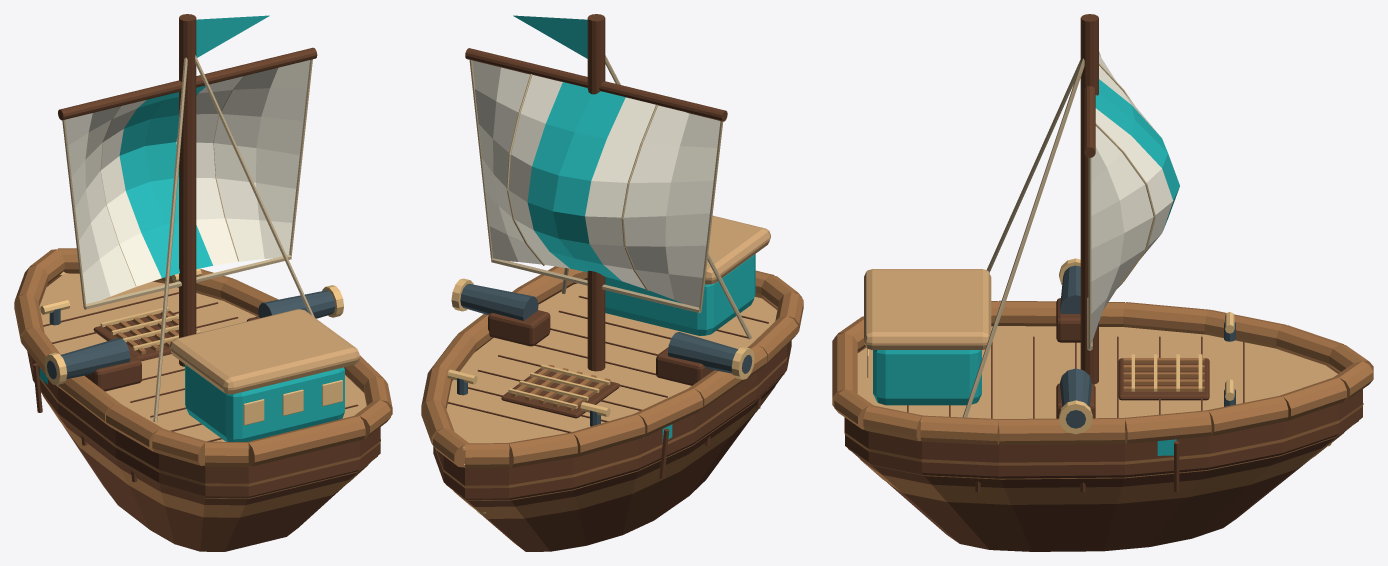
Rendered from ship-stage-1.glb.
3 renders of one model, left to right at view 1: azimuth 30°, elevation 25°; view 2: azimuth 150°, elevation 25°; view 3: azimuth 270°, elevation 25°, orthographic. The views are drawn at different scales.
Visible parts, largest first — view 1: Ship Sail ivory, Ship Walnut, Ship Hull amber, Ship Honey teak, Ship Team teal, Ship Rope flax, Ship Brass, Broadside barrel, Broadside barrel.001, Cannon carriage, Muzzle brass; view 2: Ship Sail ivory, Ship Walnut, Ship Hull amber, Ship Honey teak, Ship Team teal, Ship Rope flax, Ship Brass, Broadside barrel.001, Broadside barrel, Cannon carriage.001, Cannon carriage, Muzzle brass; view 3: Ship Walnut, Ship Hull amber, Ship Honey teak, Ship Sail ivory, Ship Team teal, Ship Rope flax, Ship Brass, Broadside barrel.001, Broadside barrel, Cannon carriage, Muzzle brass.001.
Part boxes in pixels (<box>): Ship Sail ivory: <box>65,60,309,303</box>; Ship Walnut: <box>27,14,380,551</box>; Ship Hull amber: <box>14,248,392,517</box>; Ship Honey teak: <box>39,273,366,441</box>; Ship Team teal: <box>39,15,344,441</box>; Ship Rope flax: <box>62,55,314,422</box>; Ship Brass: <box>40,268,342,448</box>; Broadside barrel: <box>60,338,130,378</box>; Broadside barrel.001: <box>258,290,335,318</box>; Cannon carriage: <box>85,353,141,391</box>; Muzzle brass: <box>44,352,67,385</box>; Ship Sail ivory: <box>472,60,720,307</box>; Ship Walnut: <box>433,14,791,551</box>; Ship Hull amber: <box>421,266,803,518</box>; Ship Honey teak: <box>446,215,777,443</box>; Ship Team teal: <box>513,15,755,442</box>; Ship Rope flax: <box>469,55,752,339</box>; Ship Brass: <box>447,364,610,514</box>; Broadside barrel.001: <box>460,284,538,320</box>; Broadside barrel: <box>668,332,738,373</box>; Cannon carriage.001: <box>488,310,550,346</box>; Cannon carriage: <box>656,347,713,385</box>; Muzzle brass: <box>731,347,754,379</box>; Ship Walnut: <box>845,14,1362,551</box>; Ship Hull amber: <box>832,300,1373,504</box>; Ship Honey teak: <box>857,269,1337,418</box>; Ship Sail ivory: <box>1091,51,1179,343</box>; Ship Team teal: <box>873,350,1176,455</box>; Ship Rope flax: <box>963,58,1155,417</box>; Ship Brass: <box>866,312,1331,446</box>; Broadside barrel.001: <box>1060,368,1091,406</box>; Broadside barrel: <box>1060,265,1080,313</box>; Cannon carriage: <box>1056,298,1080,342</box>; Muzzle brass.001: <box>1059,400,1092,434</box>.
Bounding box in the file's own units: 2.12 × 3.4 × 3.33.
